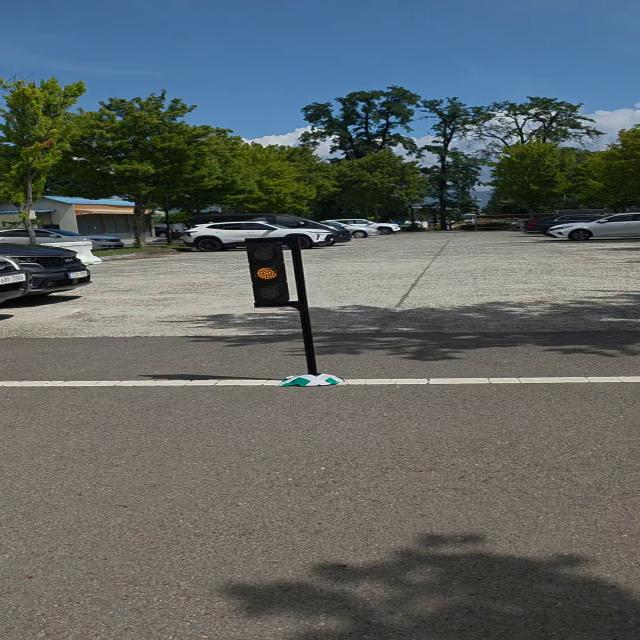yellow: (237, 239, 299, 311)
